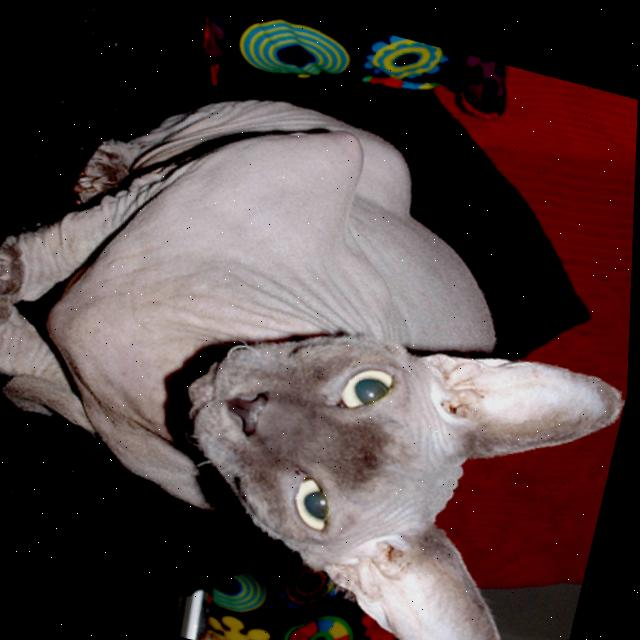Sphynx: (0, 32, 639, 640)
